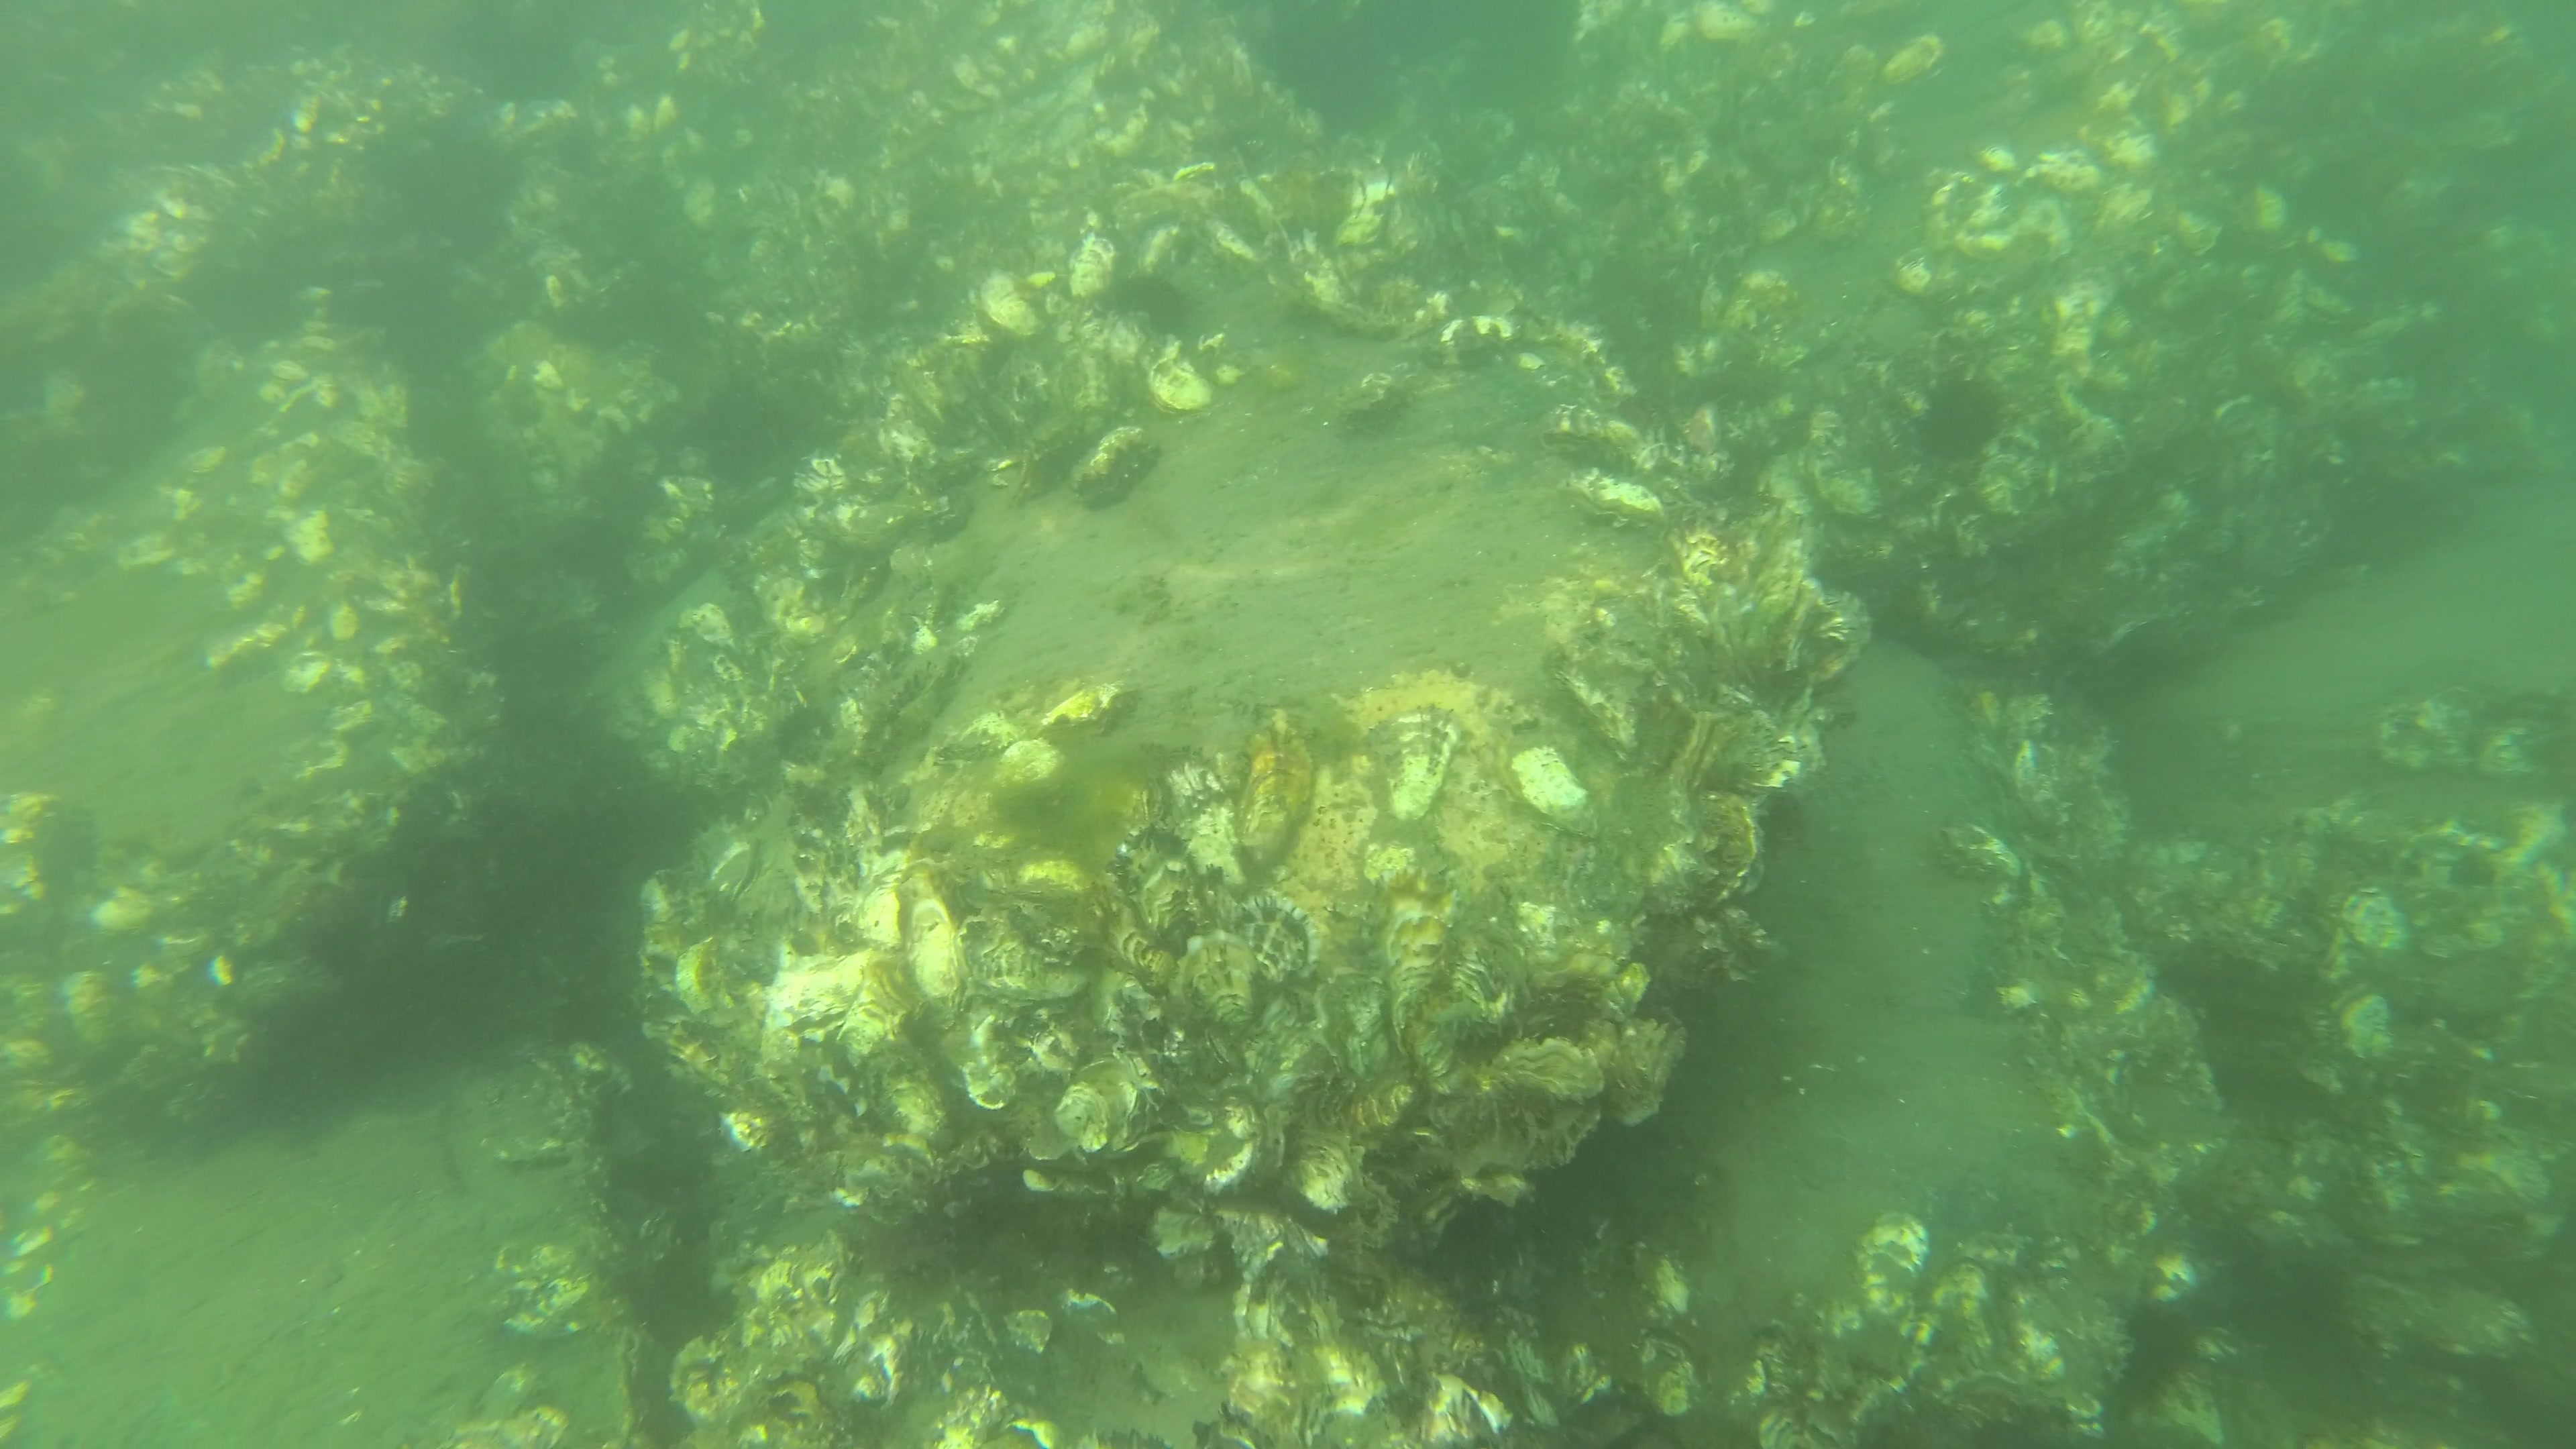echinus: (1920, 377, 2001, 455), (1118, 265, 1187, 324)
